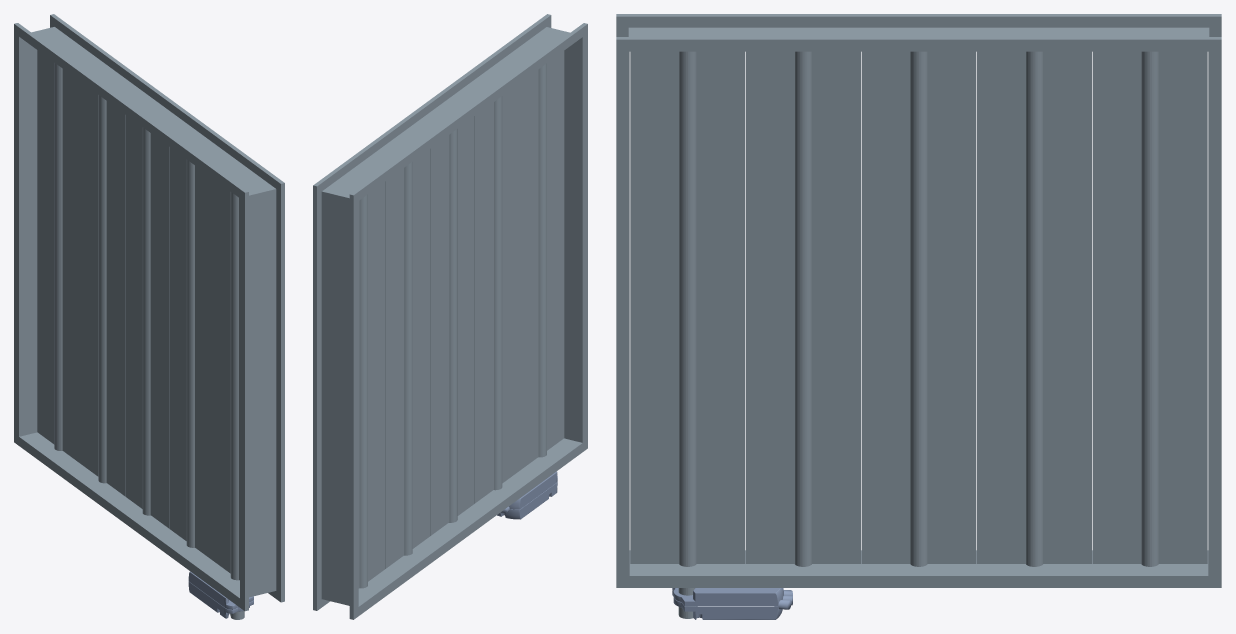
The model's file is Damper.glb.
The picture shows the model from 3 angles, left to right: view 1: azimuth 30°, elevation 25°; view 2: azimuth 150°, elevation 25°; view 3: azimuth 270°, elevation 25°; orthographic projection. The views are drawn at different scales.
Visible parts, largest first — view 1: child.001, child.005, child.004, child.003, child.006, child.002, child.007; view 2: child.001, child.003, child.002, child.004, child.005, child.006, child.007; view 3: child.002, child.006, child.004, child.003, child.005, child.001, child.007.
Part boxes in pixels (box(x1,y1,x2,y2)): child.001: box(14, 14, 284, 611); child.005: box(81, 82, 125, 496); child.004: box(125, 115, 169, 528); child.003: box(169, 147, 213, 560); child.006: box(37, 50, 81, 463); child.002: box(213, 179, 244, 619); child.007: box(188, 571, 253, 618); child.001: box(313, 14, 587, 619); child.003: box(474, 83, 519, 503); child.002: box(519, 51, 564, 470); child.004: box(430, 116, 474, 535); child.005: box(385, 149, 429, 568); child.006: box(358, 182, 385, 588); child.007: box(497, 471, 557, 519); child.002: box(630, 51, 745, 618); child.006: box(1092, 51, 1207, 566); child.004: box(861, 51, 976, 566); child.003: box(746, 51, 860, 566); child.005: box(977, 51, 1091, 566); child.001: box(616, 14, 1221, 587); child.007: box(672, 588, 792, 619).
Size of the model in its own units: 100 by 1073 by 1000.
